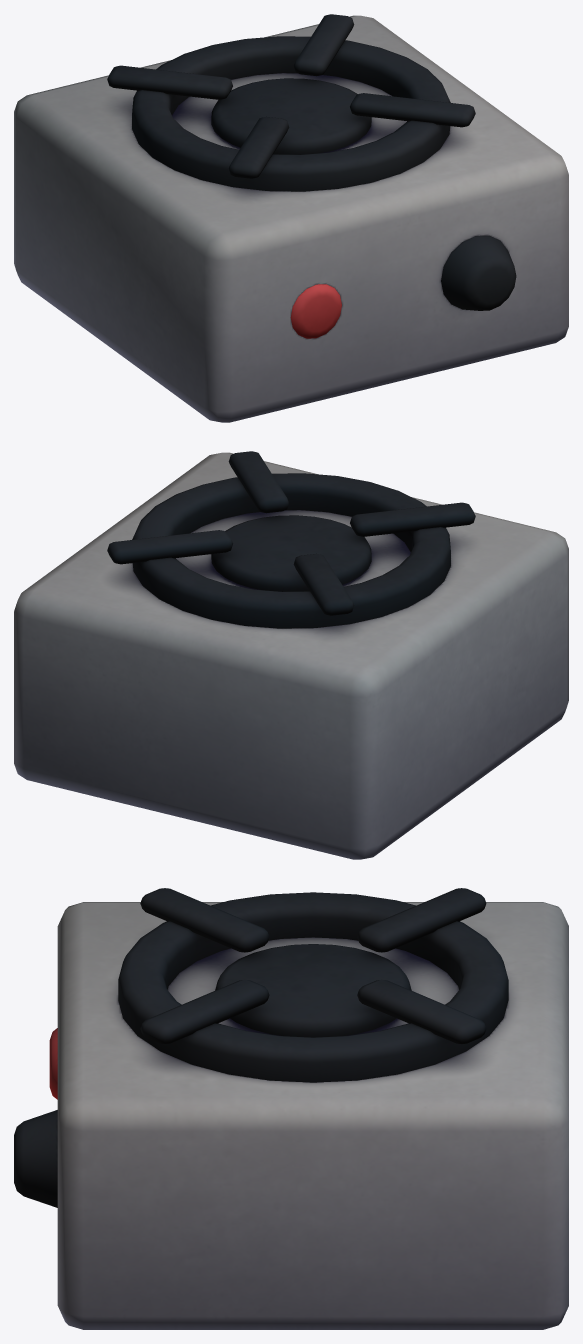
Rendered from StoveCounter.fbx.
The picture shows the model from 3 angles, top to bottom: view 1: azimuth 30°, elevation 25°; view 2: azimuth 150°, elevation 25°; view 3: azimuth 270°, elevation 25°; orthographic projection. The views are drawn at different scales.
Visible parts, largest first — view 1: StoveCounter.Base; view 2: StoveCounter.Base; view 3: StoveCounter.Base.
Part boxes in pixels (box(x1,y1,x2,y2)): StoveCounter.Base: box(14, 14, 568, 422); StoveCounter.Base: box(14, 451, 568, 859); StoveCounter.Base: box(14, 888, 568, 1329).
Size of the model in its own units: 100 by 59.34 by 109.
